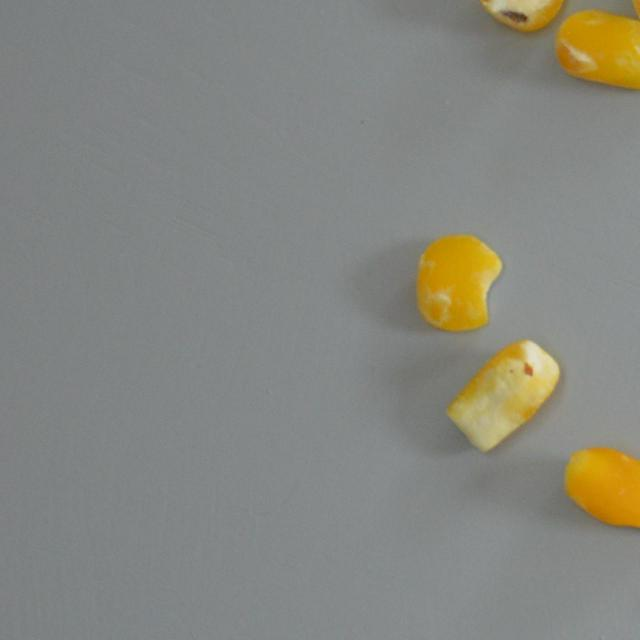dañado: (444, 335, 561, 455), (414, 228, 505, 332), (559, 440, 640, 536), (552, 6, 640, 93), (470, 0, 575, 36)
